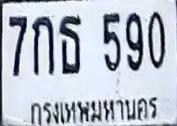0: (147, 11, 165, 69)
5: (102, 12, 121, 72)
7: (9, 16, 27, 74)
9: (125, 12, 143, 71)
A01: (32, 16, 54, 76)
A24: (58, 15, 82, 73)
BKK: (22, 94, 161, 126)
